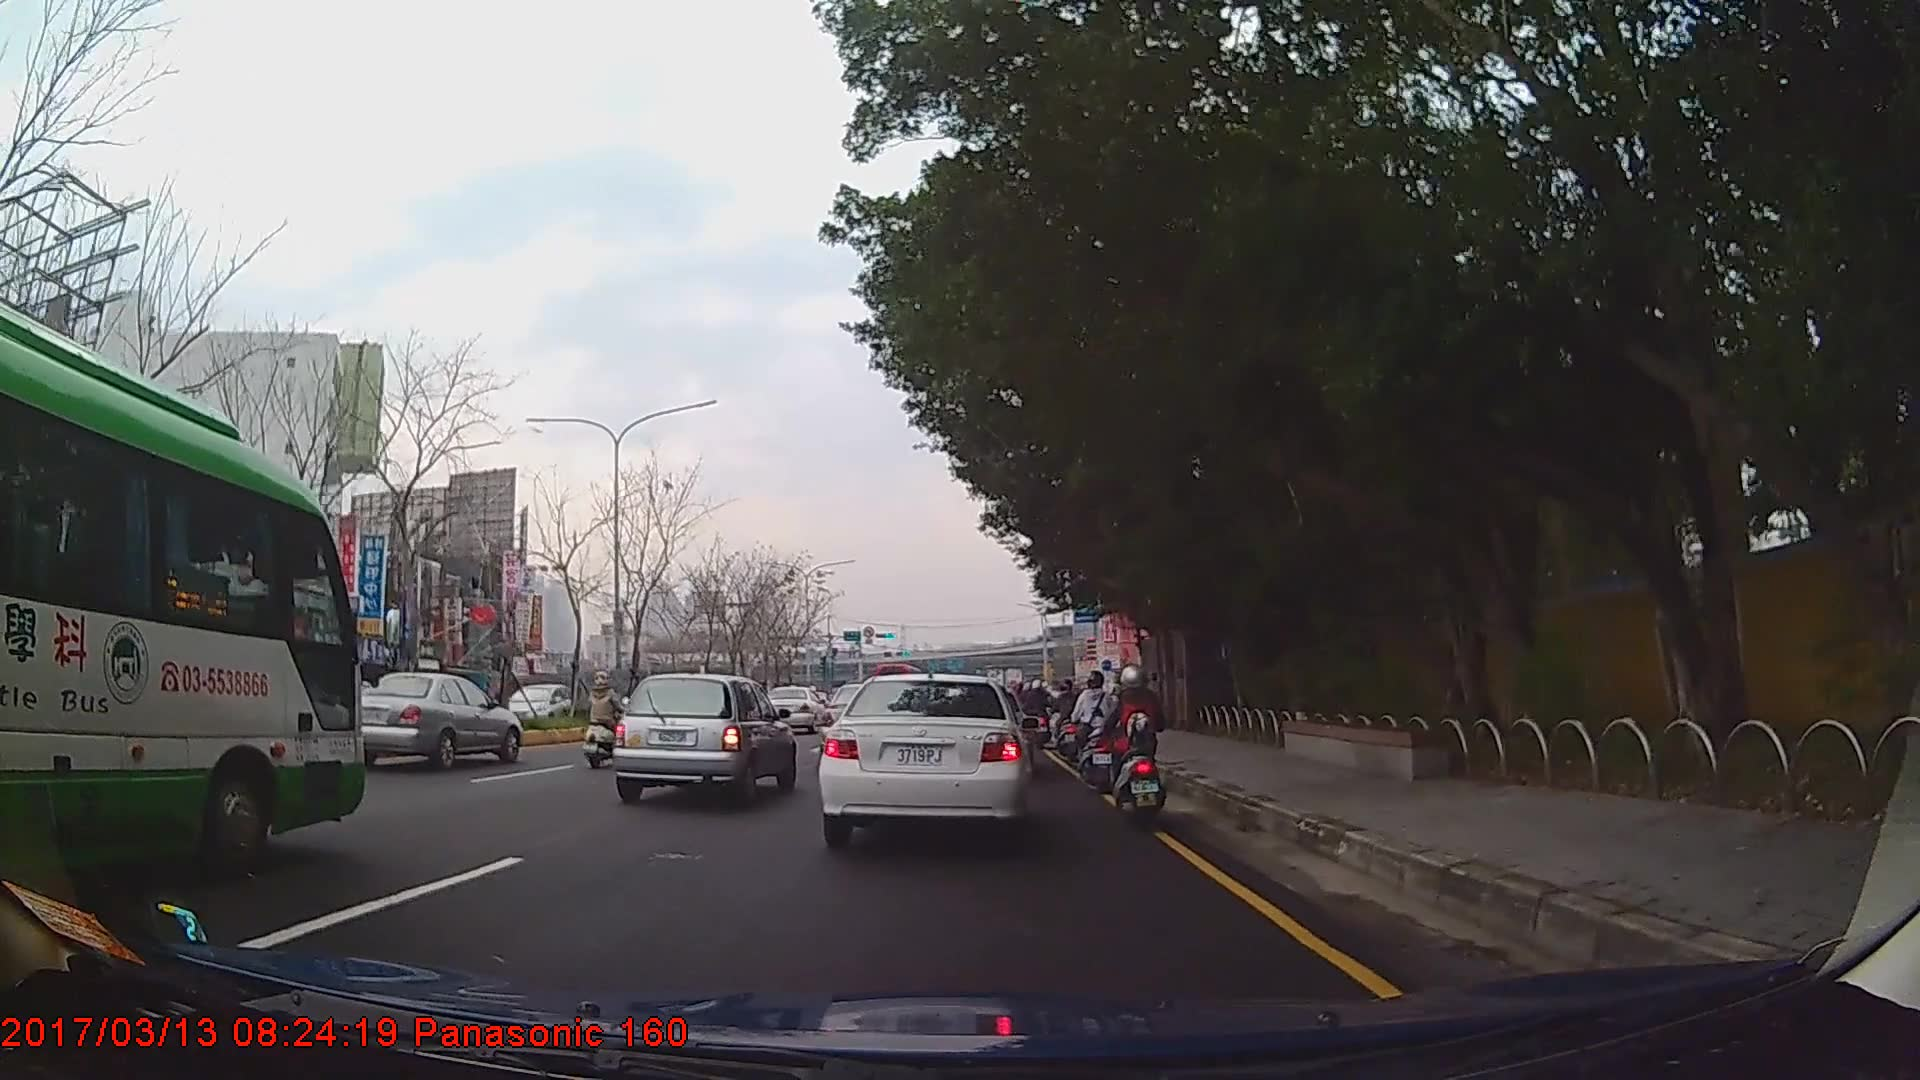rider: (1104, 661, 1164, 820), (1070, 669, 1116, 782), (589, 672, 627, 771), (1054, 680, 1081, 749)
vehicle: (0, 297, 365, 887), (818, 671, 1032, 850), (612, 671, 794, 802), (347, 670, 520, 768), (502, 683, 575, 731), (766, 682, 822, 728)
